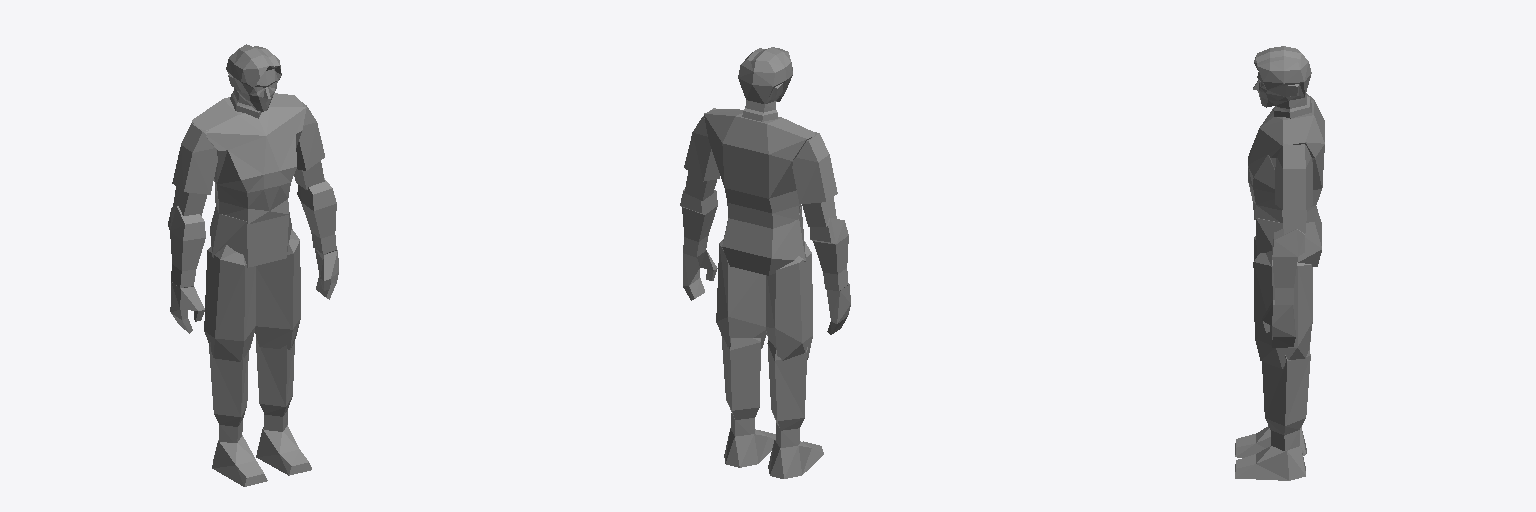
Rendered from Leon_Kennedy_V2.obj.
3 renders of one model, left to right at view 1: azimuth 30°, elevation 25°; view 2: azimuth 150°, elevation 25°; view 3: azimuth 270°, elevation 25°, orthographic.
Parts seen in each view (by area): view 1: Object_0, Object_2, Object_5, Object_1, Object_8, Object_9, Object_3, Object_6, Object_10, Object_13, Object_4, Object_7 (+3 smaller); view 2: Object_0, Object_2, Object_1, Object_5, Object_3, Object_8, Object_6, Object_9, Object_10, Object_12, Object_13, Object_4 (+3 smaller); view 3: Object_0, Object_5, Object_3, Object_8, Object_12, Object_7, Object_13, Object_1, Object_14, Object_4.
Part boxes in pixels (left/top/right/bottom): Object_0: left=192, top=93, right=306, bottom=223; Object_2: left=204, top=245, right=255, bottom=361; Object_5: left=255, top=229, right=300, bottom=349; Object_1: left=210, top=206, right=291, bottom=267; Object_8: left=226, top=44, right=281, bottom=118; Object_9: left=172, top=123, right=217, bottom=215; Object_3: left=256, top=337, right=294, bottom=431; Object_6: left=209, top=342, right=248, bottom=442; Object_10: left=168, top=206, right=205, bottom=287; Object_13: left=297, top=178, right=336, bottom=253; Object_4: left=212, top=435, right=267, bottom=486; Object_7: left=256, top=425, right=311, bottom=475; Object_0: left=704, top=109, right=814, bottom=228; Object_2: left=766, top=241, right=812, bottom=360; Object_1: left=722, top=205, right=805, bottom=275; Object_5: left=716, top=239, right=766, bottom=348; Object_3: left=721, top=334, right=760, bottom=436; Object_8: left=738, top=47, right=792, bottom=121; Object_6: left=767, top=340, right=807, bottom=447; Object_9: left=792, top=132, right=837, bottom=226; Object_10: left=810, top=218, right=848, bottom=290; Object_12: left=684, top=108, right=719, bottom=200; Object_13: left=680, top=189, right=717, bottom=257; Object_4: left=768, top=440, right=823, bottom=478; Object_0: left=1248, top=93, right=1324, bottom=222; Object_5: left=1253, top=251, right=1312, bottom=368; Object_3: left=1262, top=350, right=1310, bottom=450; Object_8: left=1253, top=46, right=1311, bottom=118; Object_12: left=1275, top=143, right=1312, bottom=234; Object_7: left=1235, top=446, right=1305, bottom=480; Object_13: left=1272, top=229, right=1304, bottom=304; Object_1: left=1256, top=206, right=1321, bottom=266; Object_14: left=1262, top=300, right=1295, bottom=347; Object_4: left=1235, top=426, right=1306, bottom=457.
Size of the model in its own units: 2.42 by 6.01 by 1.19.